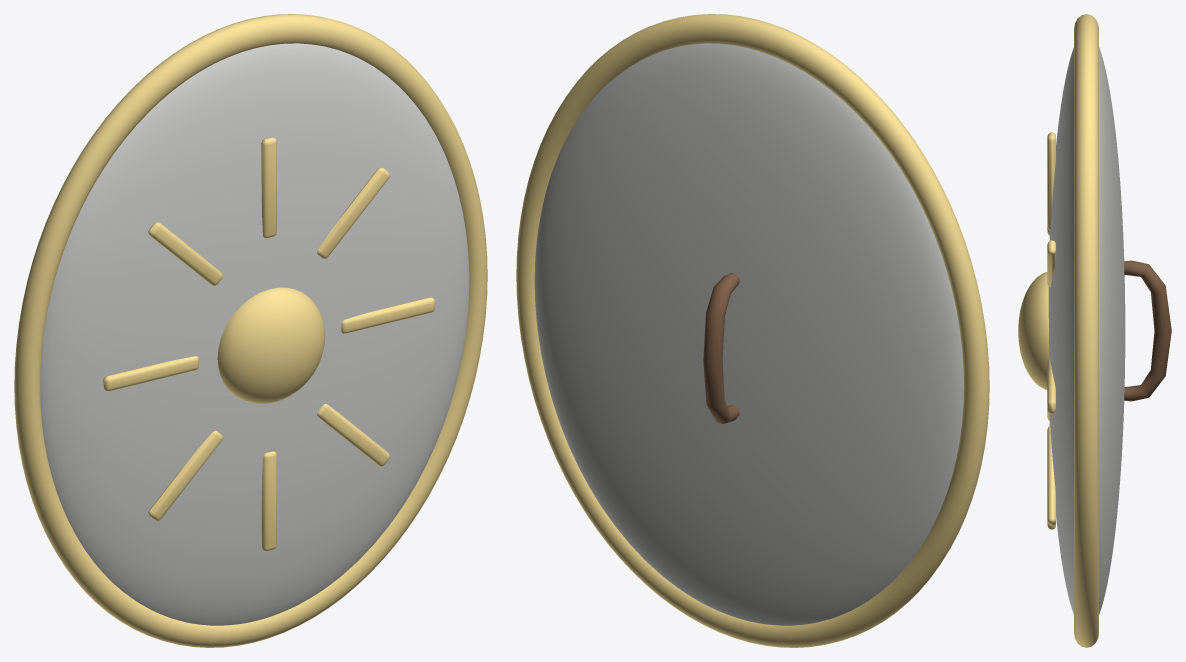
Rendered from Escudo.fbx.
3 views of the same model, side by side, from view 1: azimuth 30°, elevation 25°; view 2: azimuth 150°, elevation 25°; view 3: azimuth 270°, elevation 25° (orthographic). The views are drawn at different scales.
Parts seen in each view (by area): view 1: Escudo, Ribete, Rayos, Umbo; view 2: Escudo, Ribete, Asa; view 3: Escudo, Ribete, Umbo, Asa, Rayos.
Boxes of the visible parts, left/top/right/bottom form: Escudo: left=40, top=43, right=469, bottom=625; Ribete: left=14, top=14, right=487, bottom=647; Rayos: left=103, top=137, right=434, bottom=551; Umbo: left=217, top=287, right=325, bottom=403; Escudo: left=534, top=43, right=963, bottom=625; Ribete: left=516, top=14, right=989, bottom=647; Asa: left=703, top=273, right=739, bottom=423; Escudo: left=1048, top=47, right=1125, bottom=614; Ribete: left=1074, top=14, right=1098, bottom=647; Umbo: left=1018, top=272, right=1048, bottom=389; Asa: left=1124, top=260, right=1171, bottom=401; Rayos: left=1047, top=132, right=1055, bottom=529.
Bounding box in the file's own units: 0.5972 × 0.7554 × 0.1768.
